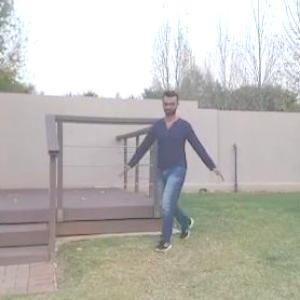land: (121, 83, 229, 269)
